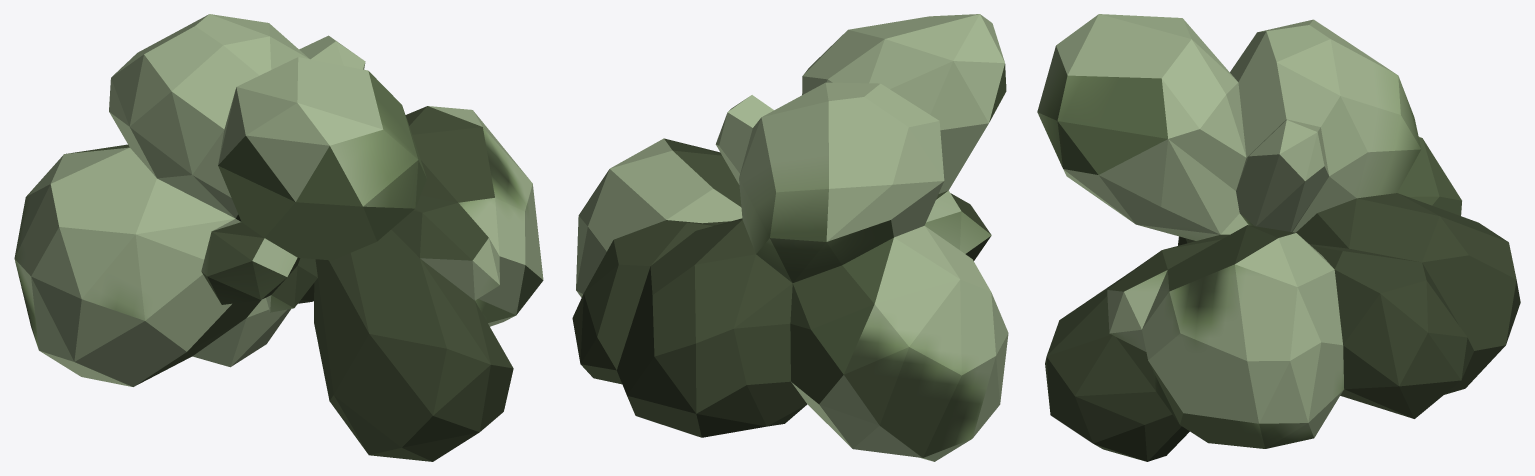
File: EA_Swamp_Fruit_04a.glb
3 renders of one model, left to right at view 1: azimuth 30°, elevation 25°; view 2: azimuth 150°, elevation 25°; view 3: azimuth 270°, elevation 25°, orthographic. The views are drawn at different scales.
Parts seen in each view (by area): view 1: EA_Swamp_Fruit_04a; view 2: EA_Swamp_Fruit_04a; view 3: EA_Swamp_Fruit_04a.
Part boxes in pixels (<box>): EA_Swamp_Fruit_04a: <box>14,14,543,461</box>; EA_Swamp_Fruit_04a: <box>572,14,1008,461</box>; EA_Swamp_Fruit_04a: <box>1037,14,1520,461</box>.
Size of the model in its own units: 0.8924 by 0.7221 by 0.8504.
Materials: 1 (1 with a texture image).
